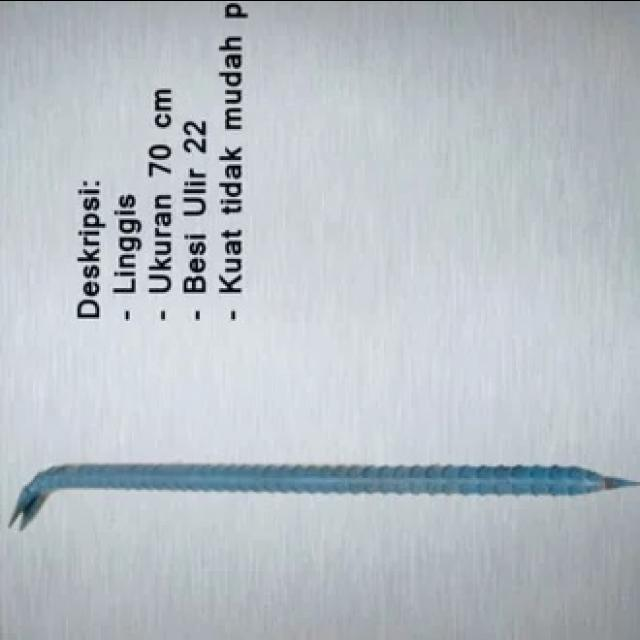Linggis: (10, 450, 638, 531)
